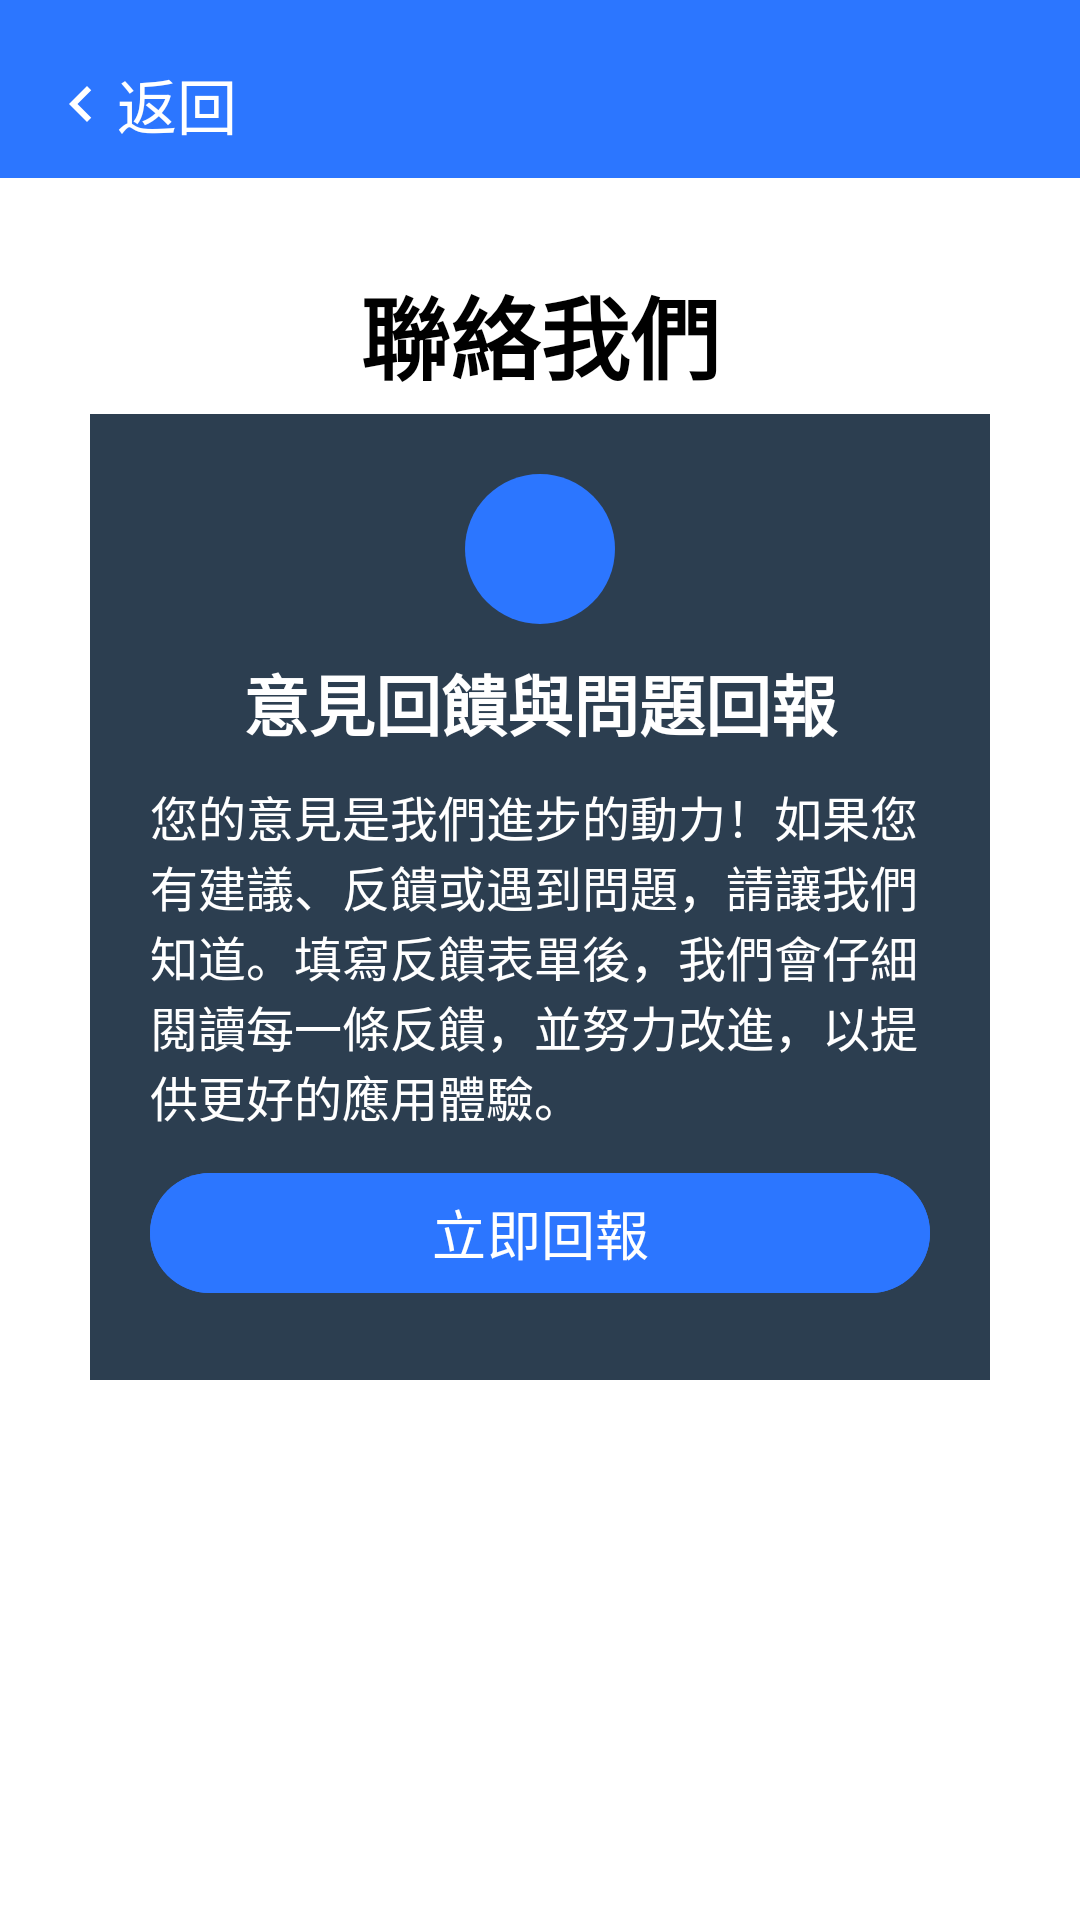

Icons on this 1080*1920 Android screen, each with the point to tap as [x,y]:
chevron left: [80,104]
